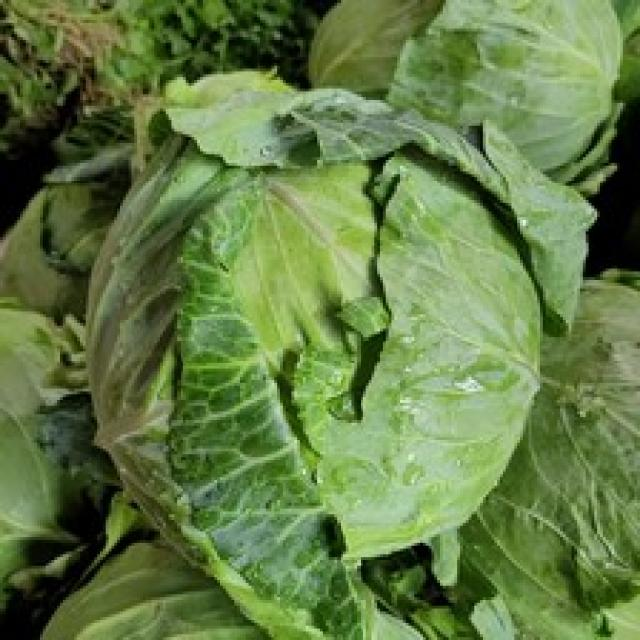Cabbage: (100, 67, 640, 640)
